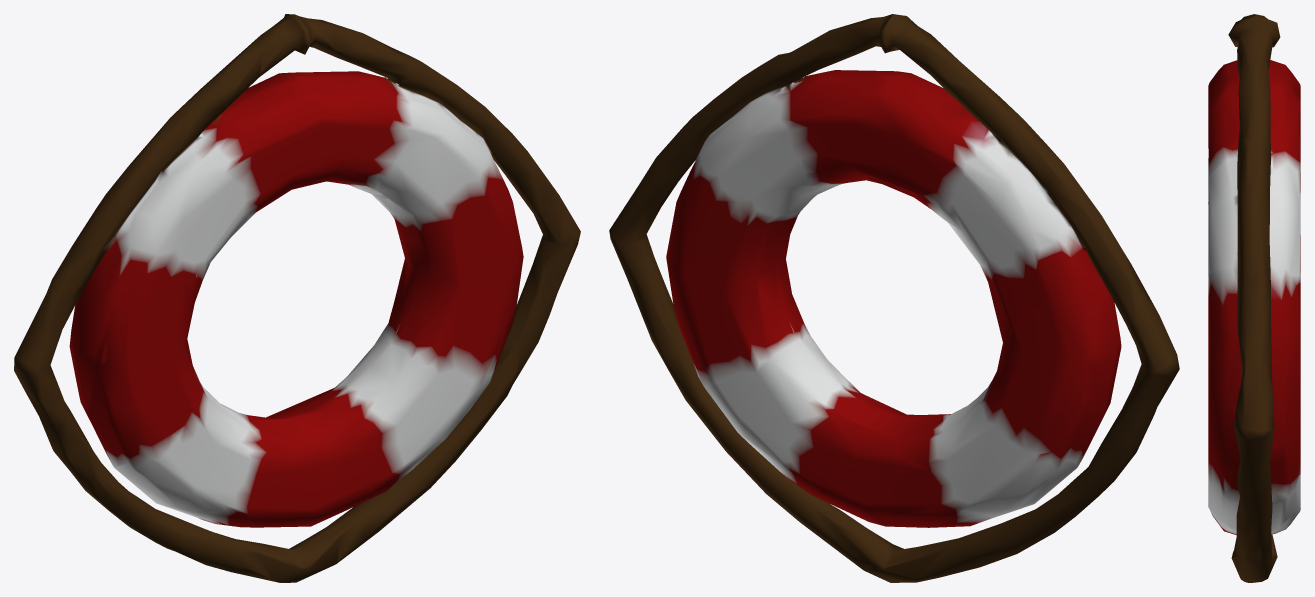
Rendered from gen3d-lifebuoy-lod0.glb.
3 views of the same model, side by side, from view 1: azimuth 30°, elevation 25°; view 2: azimuth 150°, elevation 25°; view 3: azimuth 270°, elevation 25° (orthographic).
Parts seen in each view (by area): view 1: part_0; view 2: part_0; view 3: part_0.
Boxes of the visible parts, x1=… form: part_0: x1=14, y1=14, x2=580, y2=582; part_0: x1=609, y1=14, x2=1179, y2=582; part_0: x1=1208, y1=14, x2=1300, y2=582.
Bounding box in the file's own units: 1.03 × 0.9973 × 0.1486.
